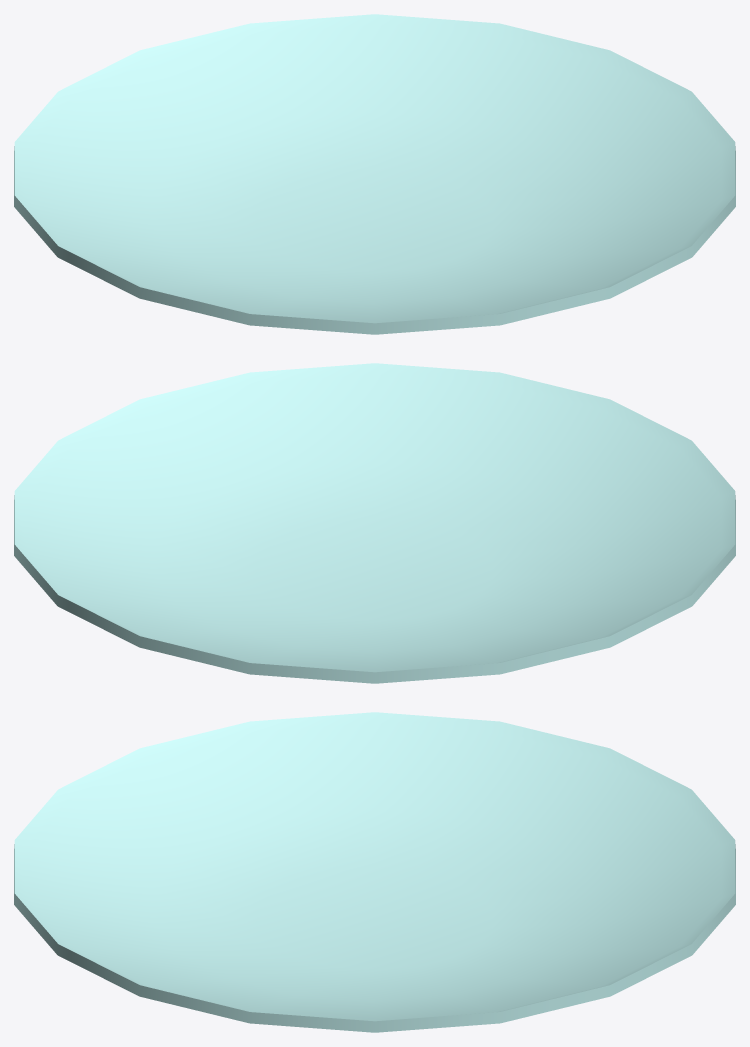
File: Dish.FBX
3 views of the same model, one above another, from view 1: azimuth 30°, elevation 25°; view 2: azimuth 150°, elevation 25°; view 3: azimuth 270°, elevation 25° (orthographic).
Visible parts, largest first — view 1: Cylinder001; view 2: Cylinder001; view 3: Cylinder001.
Part boxes in pixels (x1,y1,x2,y2): Cylinder001: (14, 14, 735, 334); Cylinder001: (14, 363, 735, 683); Cylinder001: (14, 712, 735, 1032).
Bounding box in the file's own units: 100 × 98.59 × 10.13.
Materials: 1 (1 with a texture image).
